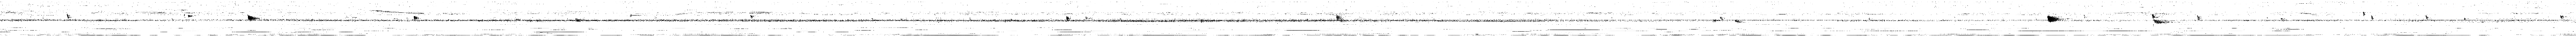meteor: (2047, 15, 2062, 21), (248, 15, 260, 20), (1336, 15, 1344, 21), (2154, 20, 2170, 23), (1735, 20, 1745, 23), (2152, 13, 2159, 18), (187, 15, 194, 18), (67, 13, 71, 18), (414, 16, 419, 20), (751, 15, 756, 18), (2561, 15, 2564, 18)
